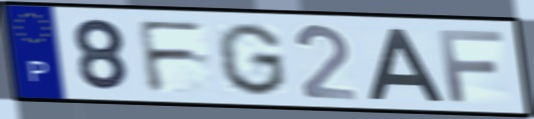2: (291, 21, 363, 103)
8: (71, 16, 132, 93)
A: (365, 26, 447, 103)
F: (133, 18, 210, 94), (435, 28, 507, 105)
G: (213, 21, 290, 98)
